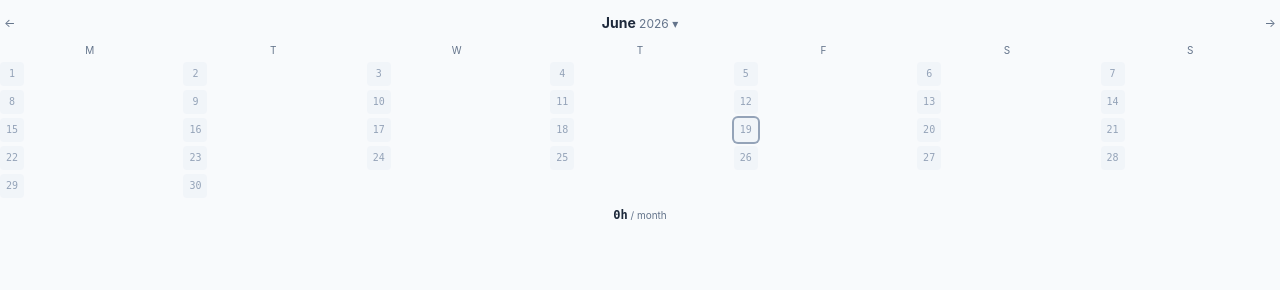
Test: HeatmapCalendar › shows QuickJumpPopover when the label is clicked and months are loaded
Click the element with test id "month-label".
click(640, 23)  # box x1=602 y1=13 x2=678 y2=33
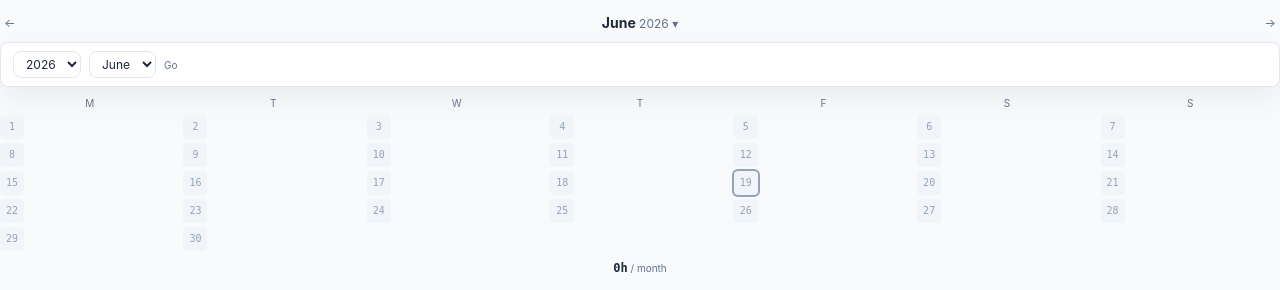
expect the element showing "Go" is shown: met, box x1=0 y1=42 x2=1279 y2=87
